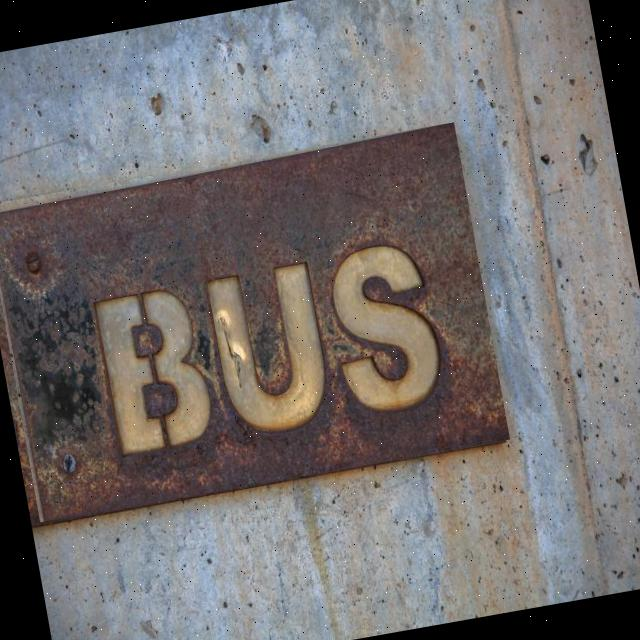Corrosion: (0, 119, 511, 526)
